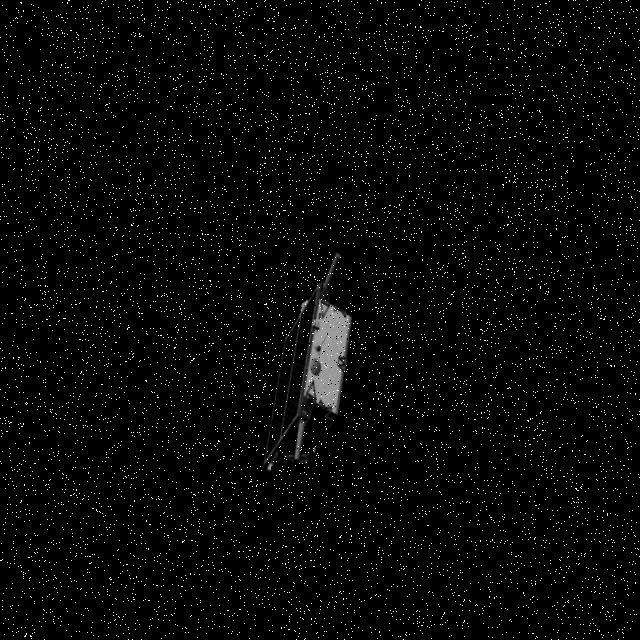medium_debris: (286, 252, 356, 476)
